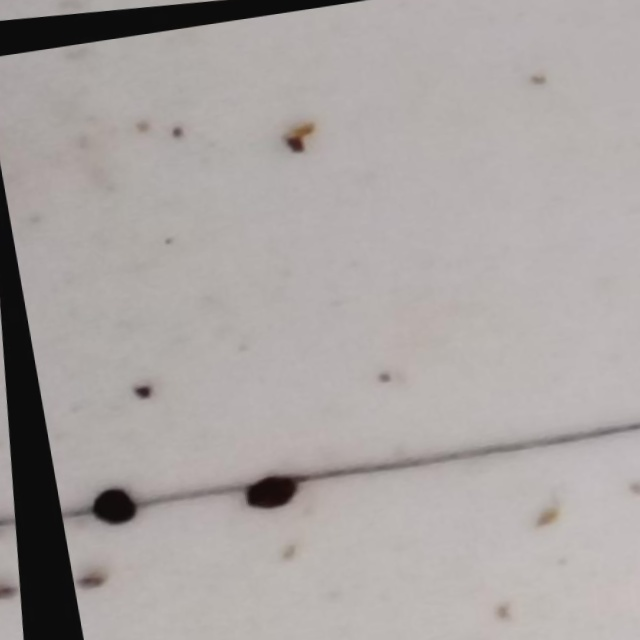varroa: (234, 468, 298, 513), (82, 484, 133, 529)
